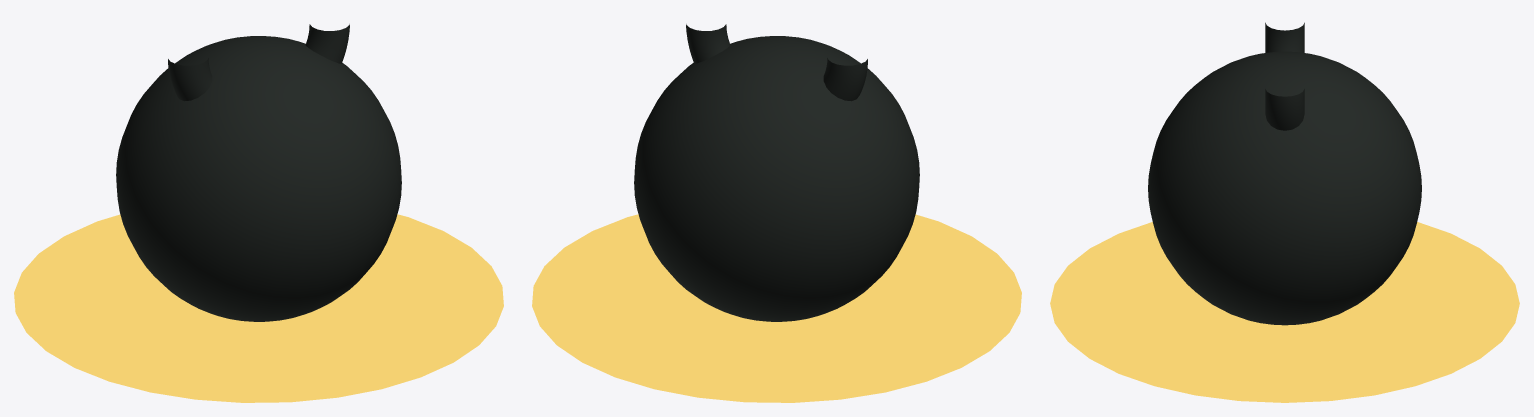
Rendered from kettlebell_thud.glb.
The picture shows the model from 3 angles, left to right: view 1: azimuth 30°, elevation 25°; view 2: azimuth 150°, elevation 25°; view 3: azimuth 270°, elevation 25°; orthographic projection. The views are drawn at different scales.
Visible parts, largest first — view 1: model_kettlebell_thud; view 2: model_kettlebell_thud; view 3: model_kettlebell_thud.
Part boxes in pixels (box(x1,y1,x2,y2)): model_kettlebell_thud: box(14, 24, 503, 402); model_kettlebell_thud: box(532, 24, 1021, 402); model_kettlebell_thud: box(1050, 22, 1519, 402).
Bounding box in the file's own units: 4.8 × 2.9 × 4.8.
